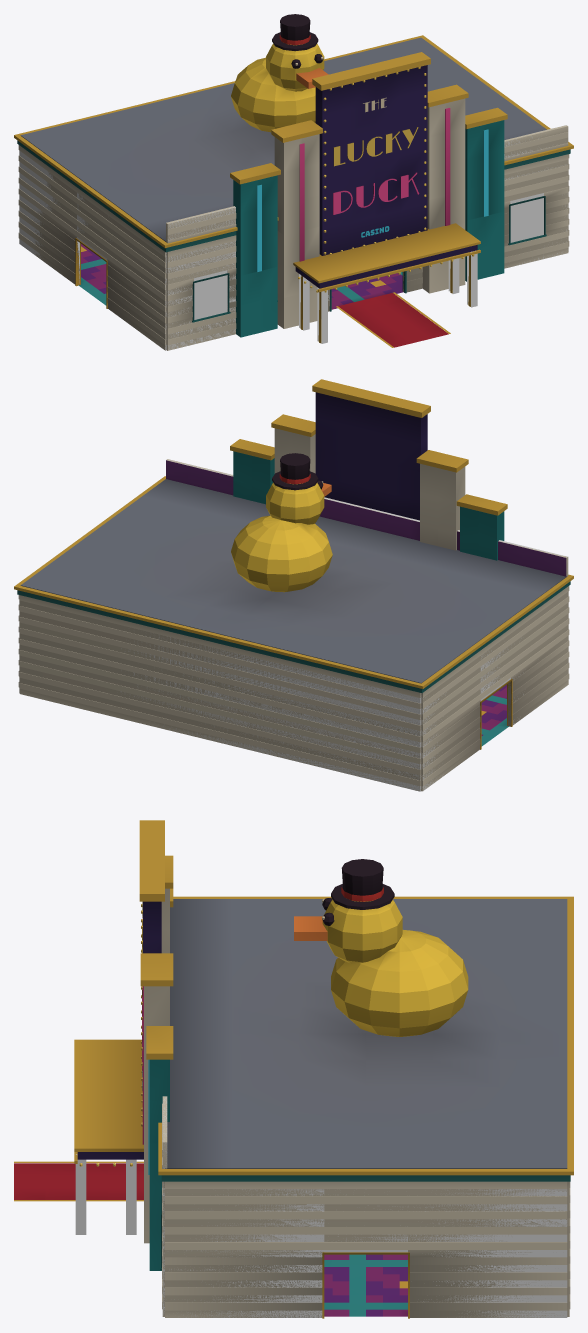
File: casino.glb
The picture shows the model from 3 angles, top to bottom: view 1: azimuth 30°, elevation 25°; view 2: azimuth 150°, elevation 25°; view 3: azimuth 270°, elevation 25°; orthographic projection. The views are drawn at different scales.
Visible parts, largest first — view 1: casino, COL_0, COL_2, COL_7, COL_11, COL_13, COL_10; view 2: casino, COL_6; view 3: casino, COL_5, COL_3, COL_13, COL_12.
Boxes of the visible parts, x1,y1,x2,y2 form: casino: [14, 14, 573, 350]; COL_0: [167, 207, 329, 349]; COL_2: [504, 125, 568, 265]; COL_7: [19, 150, 79, 283]; COL_11: [317, 287, 327, 343]; COL_13: [467, 250, 477, 307]; COL_10: [299, 274, 309, 330]; casino: [14, 379, 573, 791]; COL_6: [120, 633, 421, 791]; casino: [14, 820, 573, 1318]; COL_5: [408, 1189, 567, 1317]; COL_3: [169, 1189, 324, 1317]; COL_13: [75, 1154, 86, 1234]; COL_12: [126, 1159, 136, 1234].
Bounding box in the file's own units: 38.8 × 21.4 × 33.4.
